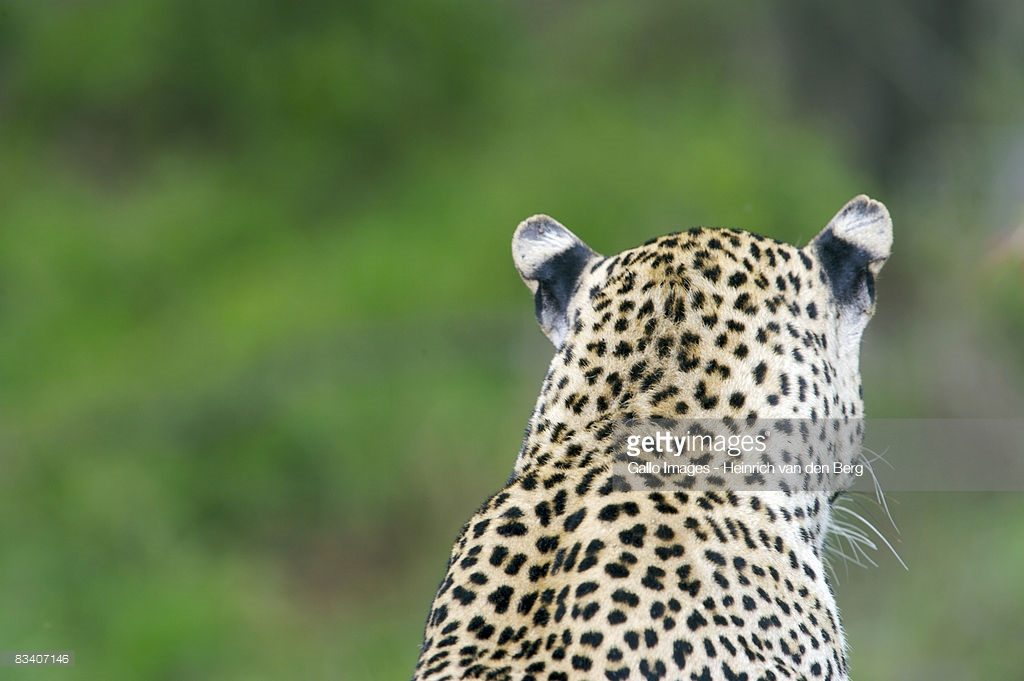leopard: (401, 196, 910, 681)
